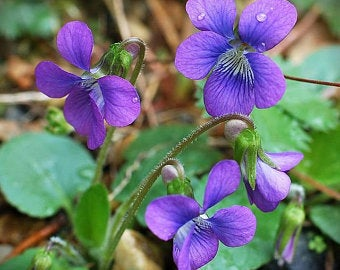violet: (180, 1, 294, 126), (142, 157, 258, 270), (36, 21, 144, 141)
